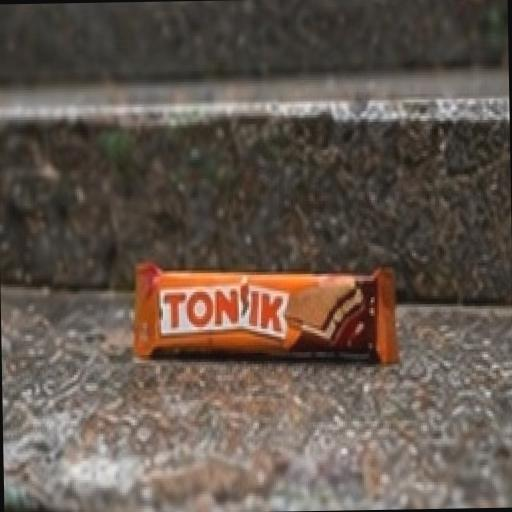tonik: (89, 170, 466, 488)
